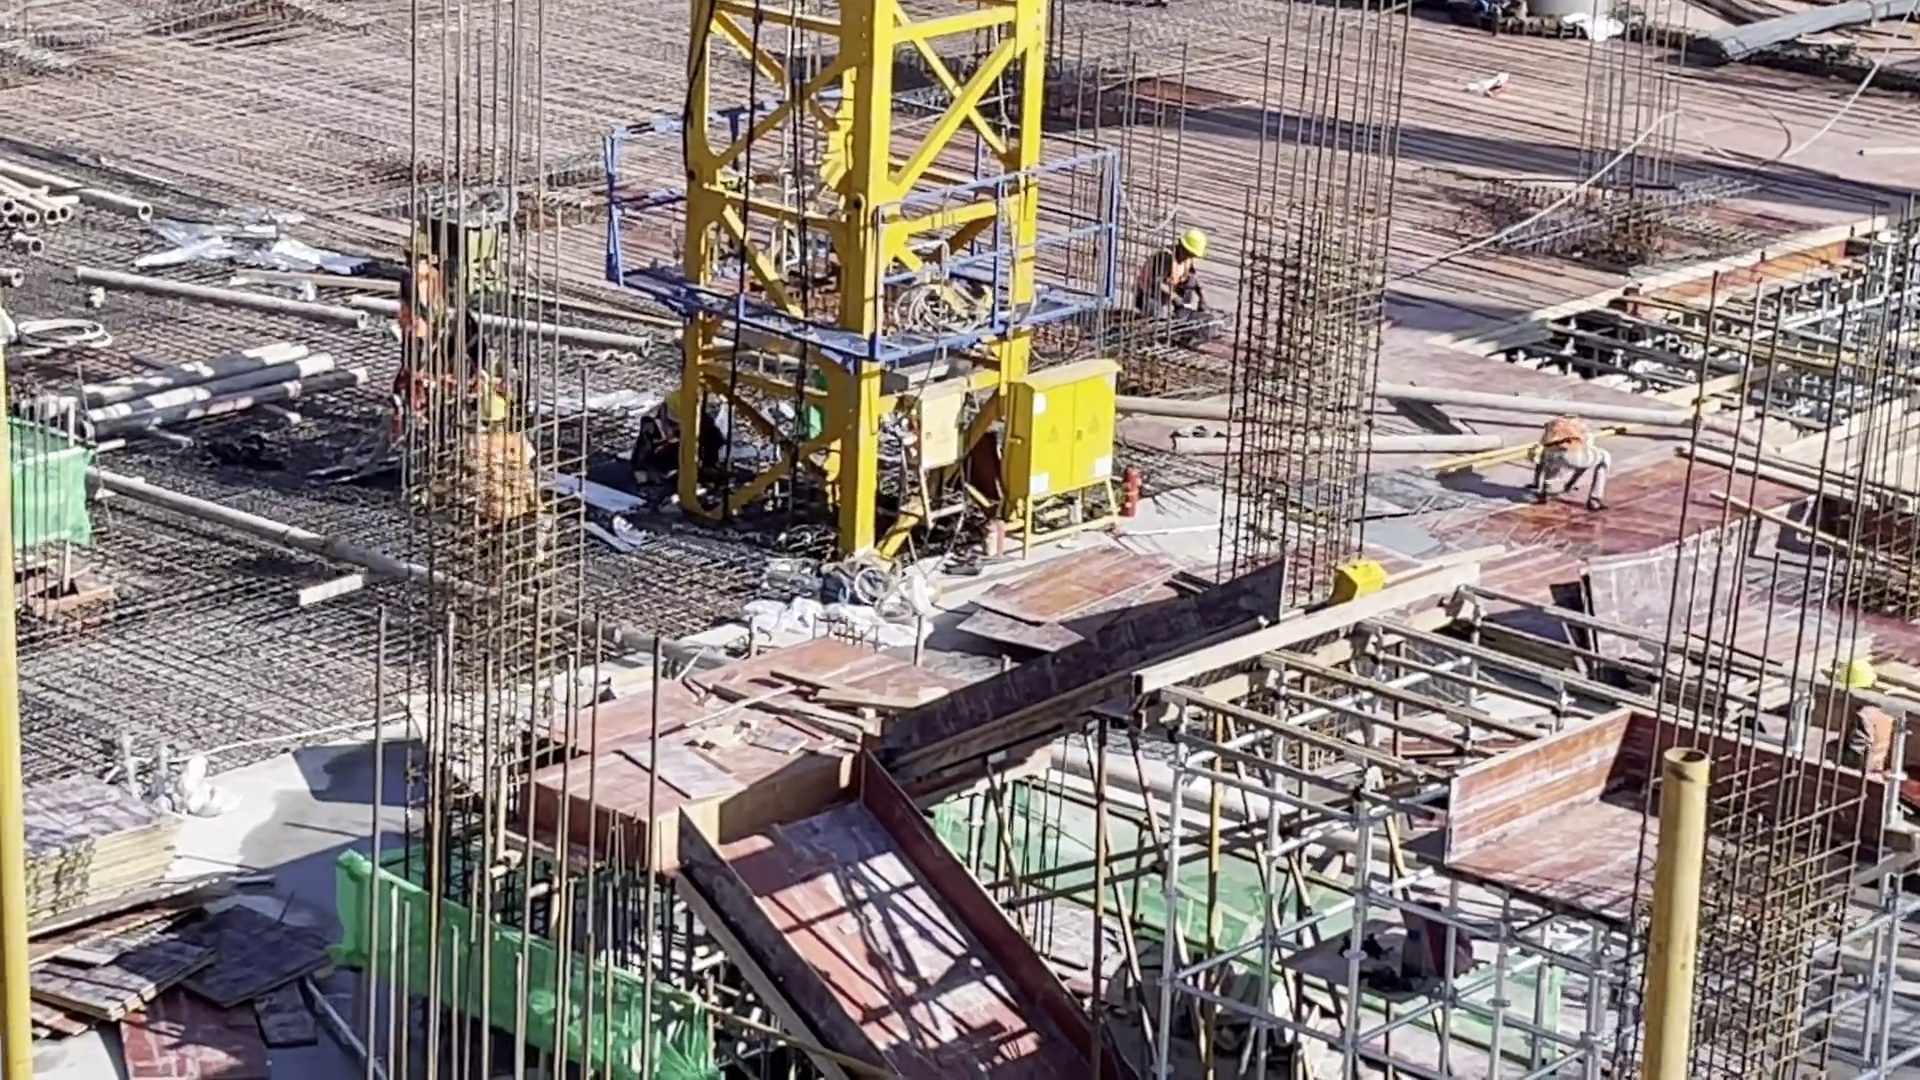board: (39, 906, 334, 1080), (1, 768, 178, 935)
ebox: (1001, 355, 1124, 557), (906, 381, 970, 548), (1324, 553, 1388, 601)
helmet: (1838, 660, 1882, 692), (1174, 227, 1213, 262), (478, 393, 514, 427)
person: (455, 385, 540, 549), (1134, 228, 1213, 331), (1529, 417, 1615, 506), (630, 381, 679, 506)
rebar: (1672, 1, 1920, 80)
vest: (468, 437, 531, 532), (1536, 416, 1596, 447)
